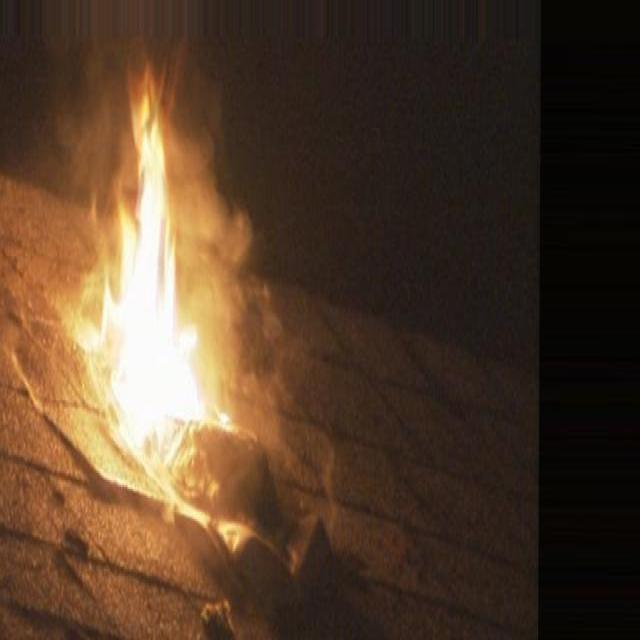fire: (63, 50, 273, 531)
